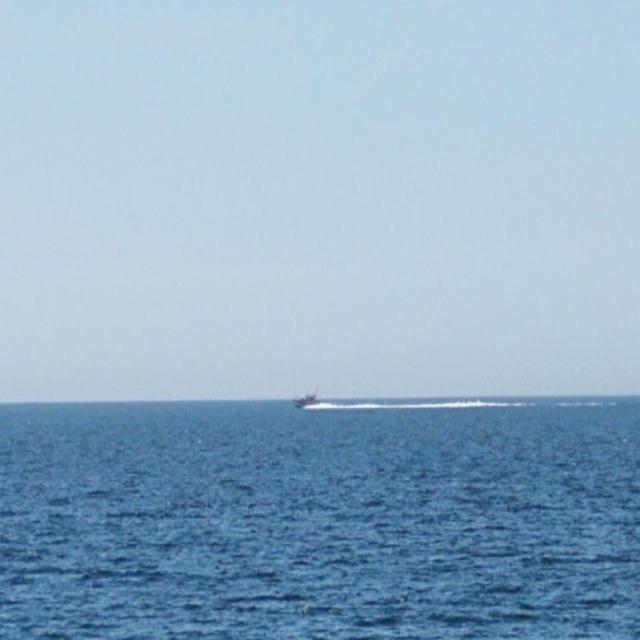houseboat: (288, 382, 328, 414)
